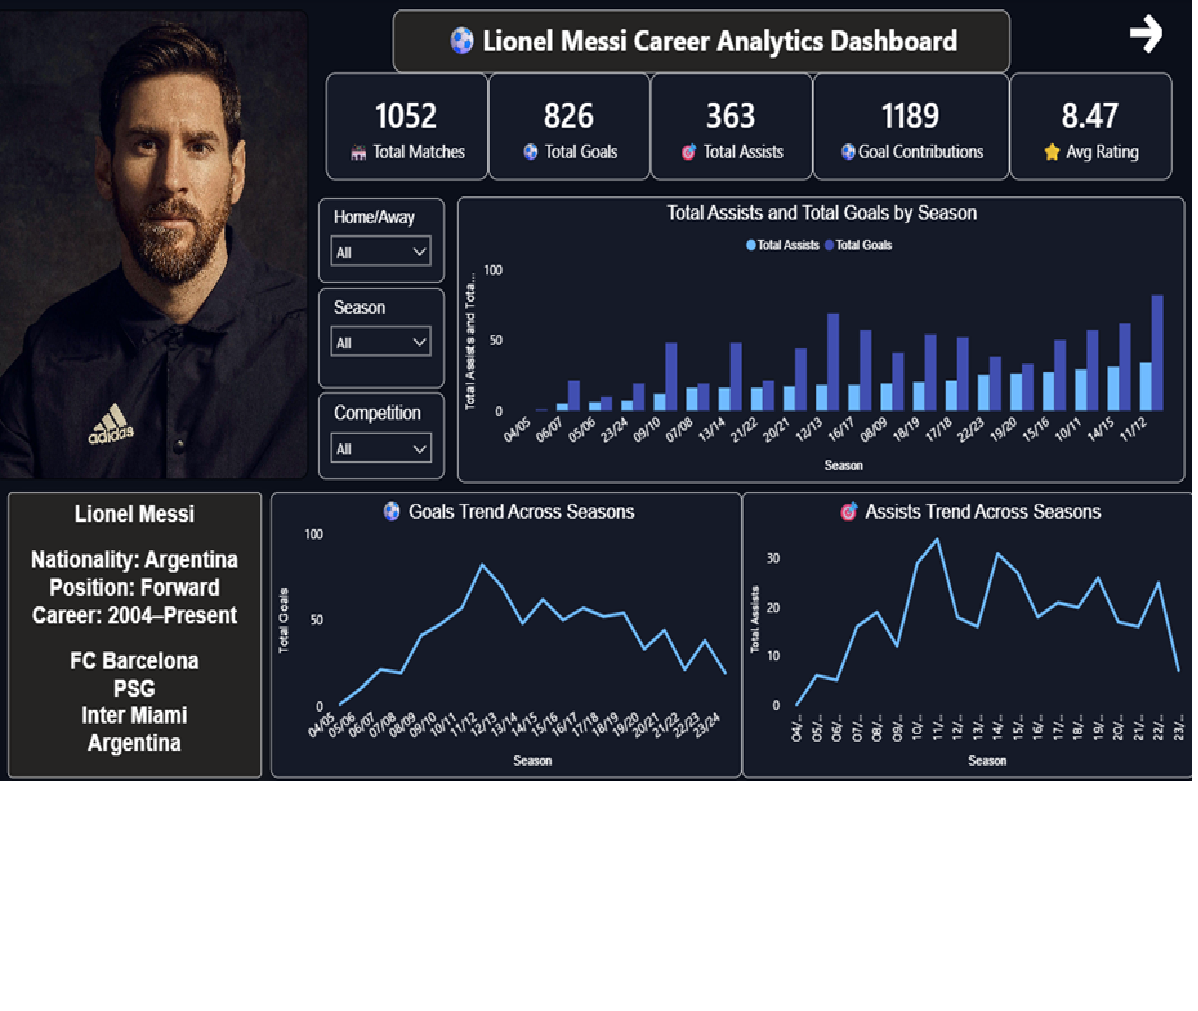

This screenshot's page, from the dashboard's own definition file:
{"tool":"powerbi","page":{"name":"Page 1","canvas":[1280,720],"ordinal":0},"visuals":[{"type":"cardVisual","fields":{"Data":["leomessi_matches.Total Matches"]},"box":[354,68.6,172.9,97.4],"z":0},{"type":"lineChart","title":"⚽ Goals Trend Across Seasons","fields":{"Category":["leomessi_matches.Season"],"Y":["leomessi_matches.Total Goals"]},"box":[295,450.1,502.2,260.7],"z":1000},{"type":"lineChart","title":"🎯 Assists Trend Across Seasons","fields":{"Category":["leomessi_matches.Season"],"Y":["leomessi_matches.Total Assists"]},"box":[797.4,450.1,482.9,260.8],"z":2000},{"type":"clusteredColumnChart","fields":{"Category":["leomessi_matches.Season"],"Y":["leomessi_matches.Total Assists","leomessi_matches.Total Goals"]},"box":[494,181.1,775.3,260.7],"z":3000},{"type":"slicer","fields":{"Values":["leomessi_matches.Season"]},"box":[345.8,265.3,134.1,90.9],"z":4000},{"type":"slicer","fields":{"Values":["leomessi_matches.Competition"]},"box":[345.8,359.5,134.5,79.6],"z":5000},{"type":"slicer","fields":{"Values":["leomessi_matches.Home/Away"]},"box":[345.8,181.8,134.1,77.5],"z":6000},{"type":"textbox","box":[425.4,11,657.3,57.6],"z":7000},{"type":"image","box":[0,11,334.8,428.1],"z":8000},{"type":"cardVisual","fields":{"Data":["leomessi_matches.Total Goals"]},"box":[526.9,68.6,172.9,97.4],"z":9000},{"type":"cardVisual","fields":{"Data":["leomessi_matches.Total Assists"]},"box":[699.8,68.6,172.9,97.4],"z":10000},{"type":"cardVisual","fields":{"Data":["leomessi_matches.Goal Contributions"]},"box":[872.7,68.6,209.9,97.4],"z":11000},{"type":"cardVisual","fields":{"Data":["leomessi_matches.Avg Rating"]},"box":[1082.7,68.6,172.9,97.4],"z":12000},{"type":"textbox","box":[15.1,450.1,270.3,260.7],"z":13000},{"type":"actionButton","box":[1204.8,11,54.9,43.9],"z":14000}]}

Visuals, with their boxes on the page's 1280x720 design canvas (x1, y1, x2, y2). These are canvas units, not pixel positions in the 1198x1011 screenshot, which may show the page scaled, cropped or inside an application window:
cardVisual - leomessi_matches.Total Matches: <bbox>354, 69, 527, 166</bbox>
"⚽ Goals Trend Across Seasons" lineChart: <bbox>295, 450, 797, 711</bbox>
"🎯 Assists Trend Across Seasons" lineChart: <bbox>797, 450, 1280, 711</bbox>
clusteredColumnChart - leomessi_matches.Season x leomessi_matches.Total Assists: <bbox>494, 181, 1269, 442</bbox>
slicer - leomessi_matches.Season: <bbox>346, 265, 480, 356</bbox>
slicer - leomessi_matches.Competition: <bbox>346, 360, 480, 439</bbox>
slicer - leomessi_matches.Home/Away: <bbox>346, 182, 480, 259</bbox>
textbox: <bbox>425, 11, 1083, 69</bbox>
image: <bbox>0, 11, 335, 439</bbox>
cardVisual - leomessi_matches.Total Goals: <bbox>527, 69, 700, 166</bbox>
cardVisual - leomessi_matches.Total Assists: <bbox>700, 69, 873, 166</bbox>
cardVisual - leomessi_matches.Goal Contributions: <bbox>873, 69, 1083, 166</bbox>
cardVisual - leomessi_matches.Avg Rating: <bbox>1083, 69, 1256, 166</bbox>
textbox: <bbox>15, 450, 285, 711</bbox>
actionButton: <bbox>1205, 11, 1260, 55</bbox>
